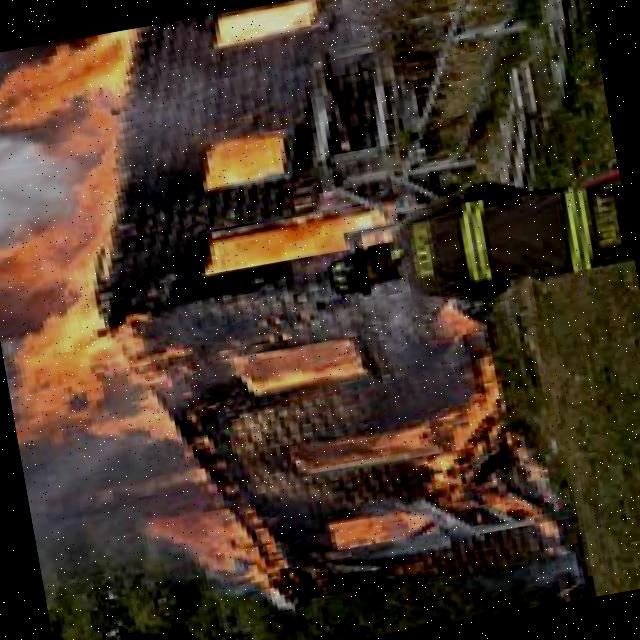fire: (0, 38, 191, 442), (369, 373, 530, 540), (154, 503, 278, 614), (200, 206, 386, 274), (203, 0, 327, 56)
